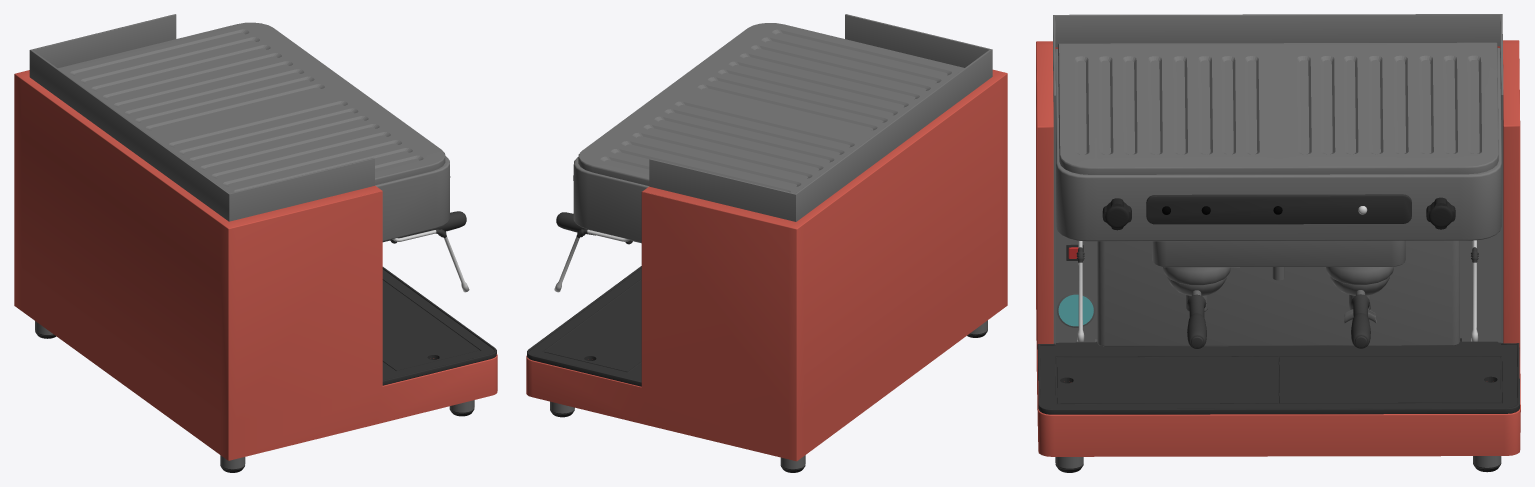
Rendered from uploads_files_3629114_Machine+v1.fbx.
3 views of the same model, side by side, from view 1: azimuth 30°, elevation 25°; view 2: azimuth 150°, elevation 25°; view 3: azimuth 270°, elevation 25° (orthographic). The views are drawn at different scales.
Parts seen in each view (by area): view 1: Machine1-LOD, BezierCurve; view 2: Machine1-LOD, BezierCurve; view 3: Machine1-LOD, BezierCurve.
Boxes of the visible parts, <box> form: Machine1-LOD: <box>14,14,497,472</box>; BezierCurve: <box>392,229,469,292</box>; Machine1-LOD: <box>526,14,1007,472</box>; BezierCurve: <box>554,229,630,292</box>; Machine1-LOD: <box>1036,14,1520,472</box>; BezierCurve: <box>1076,240,1478,341</box>.
Bounding box in the file's own units: 61.24 × 53.56 × 73.38.
